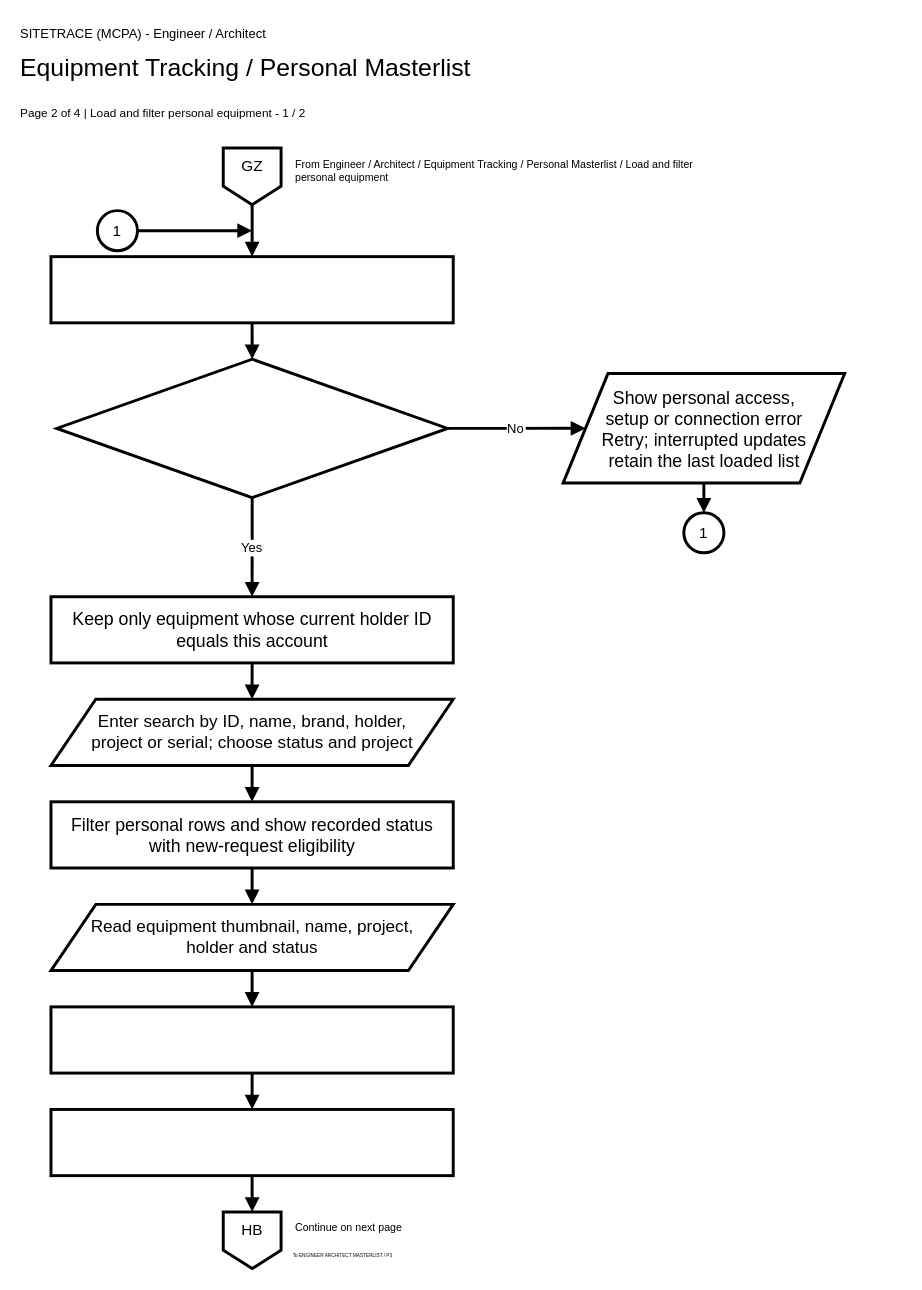
Some shapes in this 922 by 1290 pixel diagram are drawn without their labels. Each missing label, with the centre of its shape:
Call mcpa_personal_equipment_snapshot for the signed-in account: point (251, 289)
Did an authorized tools array load?: point (252, 428)
Display empty-custody message or no-matching-results state when applicable: point (251, 1039)
Refresh on watched equipment/site/notification updates, focus and reconnect: point (251, 1142)
